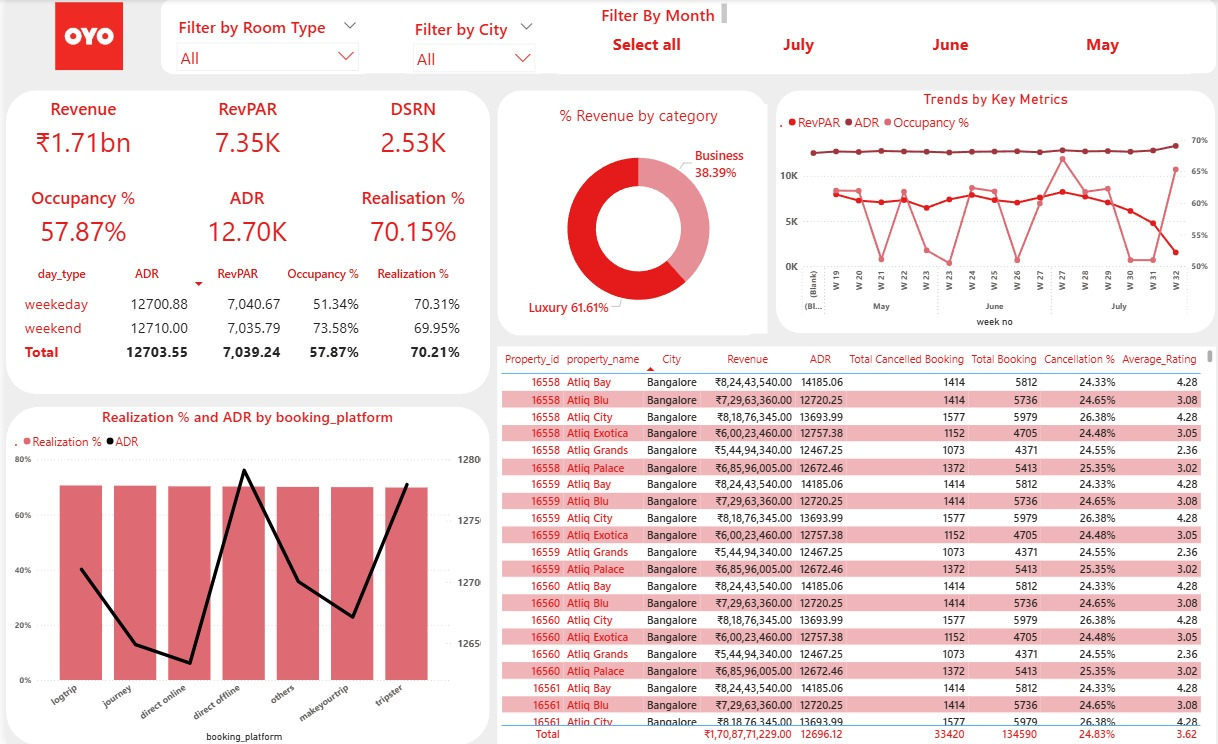

Layout of this report page (visuals, bound fields, positions):
{"tool":"powerbi","page":{"name":"Executive_dashboard ","canvas":[1800,1100],"ordinal":0},"visuals":[{"type":"shape","box":[228,0,1556,110],"z":0},{"type":"image","box":[16,0,212,110],"z":1000},{"type":"slicer","fields":{"Values":["rooms.room_class"]},"box":[242,20,288,90],"z":2000},{"type":"slicer","fields":{"Values":["hotels.city"]},"box":[590,22,200,88],"z":3000},{"type":"slicer","title":"Filter By Month","fields":{"Values":["Date.Month Name"]},"box":[812,20,934,90],"z":4000},{"type":"textbox","box":[872,2,196,40],"z":5000},{"type":"shape","box":[0,134,714,448],"z":6000},{"type":"card","title":"Revenue","fields":{"Values":["Measure Table.Revenue"]},"box":[0,144,228,98],"z":8000},{"type":"card","title":"RevPAR","fields":{"Values":["Measure Table.RevPAR"]},"box":[242,144,230,98],"z":9000},{"type":"card","title":"DSRN","fields":{"Values":["Measure Table.DSRN"]},"box":[486,144,228,98],"z":10000},{"type":"card","title":"ADR","fields":{"Values":["Measure Table.ADR"]},"box":[242,274,228,98],"z":11000},{"type":"card","title":"Realisation %","fields":{"Values":["Measure Table.Realization %"]},"box":[486,274,228,98],"z":12000},{"type":"card","title":"Occupancy %","fields":{"Values":["Measure Table.Occupancy %"]},"box":[0,273.8,228,98],"z":13000},{"type":"tableEx","fields":{"Values":["Date.day_type","Measure Table.ADR","Measure Table.RevPAR","Measure Table.Occupancy %","Measure Table.Realization %"]},"box":[16,386,698,164],"z":14000},{"type":"shape","box":[0,600,713.2,500],"z":15000},{"type":"shape","box":[1136,134,648,358],"z":16000},{"type":"shape","box":[724,134,398,362],"z":17000},{"type":"donutChart","title":"% Revenue by category","fields":{"Y":["Measure Table.Revenue"],"Series":["hotels.category"]},"box":[742,154,380,338],"z":18000},{"type":"lineChart","title":"Trends by Key Metrics","fields":{"Category":["Date.Start_of_month.Variation.Date Hierarchy.Month","Date.week no"],"Y":["Measure Table.RevPAR","Measure Table.ADR"],"Y2":["Measure Table.Occupancy %"]},"box":[1136,134,648,354],"z":19000},{"type":"lineStackedColumnComboChart","fields":{"Category":["Bookings.booking_platform"],"Y":["Measure Table.Realization %"],"Y2":["Measure Table.ADR"]},"box":[7.5,600,698.1,500],"z":20000},{"type":"tableEx","fields":{"Values":["aggregated_bookings.property_id","hotels.property_name","hotels.city","Measure Table.Revenue","Measure Table.ADR","Measure Table.Total Cancelled Booking","Measure Table.Total Booking","Measure Table.Cancellation %","Measure Table.Average_Rating"]},"box":[724,512,1060,588],"z":21000}]}

Visuals, with their boxes in screenshot pixels (x1, y1, x2, y2), scaled from the page's 1800x1100 canvas onto the 1218x744 screenshot:
shape: pyautogui.locateOnScreen(154, 0, 1207, 74)
image: pyautogui.locateOnScreen(11, 0, 154, 74)
slicer - rooms.room_class: pyautogui.locateOnScreen(164, 14, 359, 74)
slicer - hotels.city: pyautogui.locateOnScreen(399, 15, 535, 74)
"Filter By Month" slicer: pyautogui.locateOnScreen(549, 14, 1181, 74)
textbox: pyautogui.locateOnScreen(590, 1, 723, 28)
shape: pyautogui.locateOnScreen(0, 91, 483, 394)
"Revenue" card: pyautogui.locateOnScreen(0, 97, 154, 164)
"RevPAR" card: pyautogui.locateOnScreen(164, 97, 319, 164)
"DSRN" card: pyautogui.locateOnScreen(329, 97, 483, 164)
"ADR" card: pyautogui.locateOnScreen(164, 185, 318, 252)
"Realisation %" card: pyautogui.locateOnScreen(329, 185, 483, 252)
"Occupancy %" card: pyautogui.locateOnScreen(0, 185, 154, 251)
tableEx - Date.day_type x Measure Table.ADR: pyautogui.locateOnScreen(11, 261, 483, 372)
shape: pyautogui.locateOnScreen(0, 406, 483, 743)
shape: pyautogui.locateOnScreen(769, 91, 1207, 333)
shape: pyautogui.locateOnScreen(490, 91, 759, 335)
"% Revenue by category" donutChart: pyautogui.locateOnScreen(502, 104, 759, 333)
"Trends by Key Metrics" lineChart: pyautogui.locateOnScreen(769, 91, 1207, 330)
lineStackedColumnComboChart - Bookings.booking_platform x Measure Table.Realization %: pyautogui.locateOnScreen(5, 406, 477, 743)
tableEx - aggregated_bookings.property_id x hotels.property_name: pyautogui.locateOnScreen(490, 346, 1207, 743)
